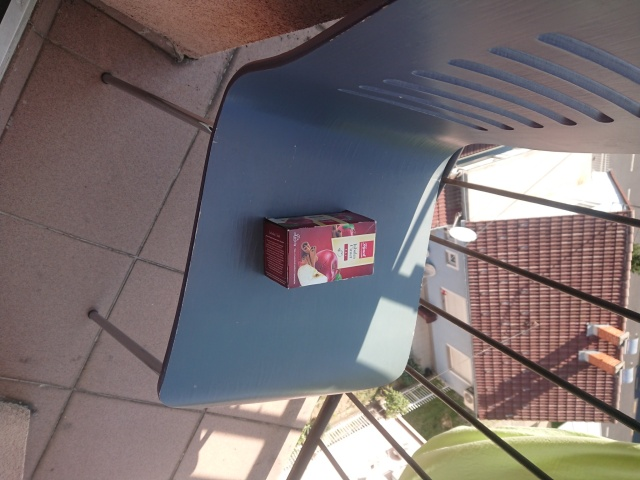Franck Apple Cinnamon Tea 60g: (260, 207, 377, 289)
